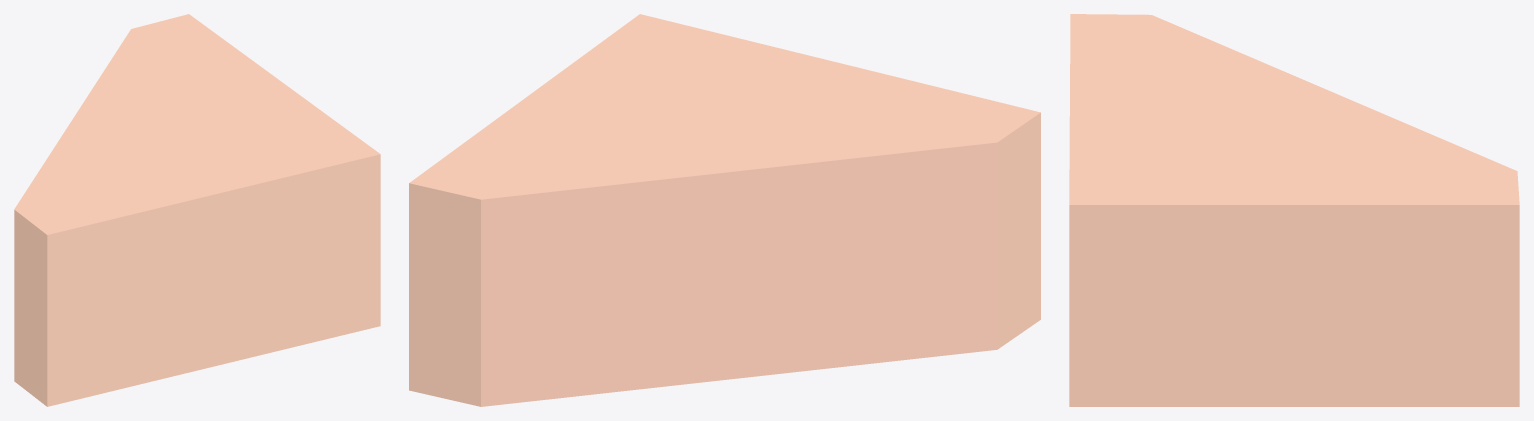
The model's file is scene_ringle.gltf.
3 renders of one model, left to right at view 1: azimuth 30°, elevation 25°; view 2: azimuth 150°, elevation 25°; view 3: azimuth 270°, elevation 25°, orthographic. The views are drawn at different scales.
Size of the model in its own units: 2.03 by 1 by 2.02.
